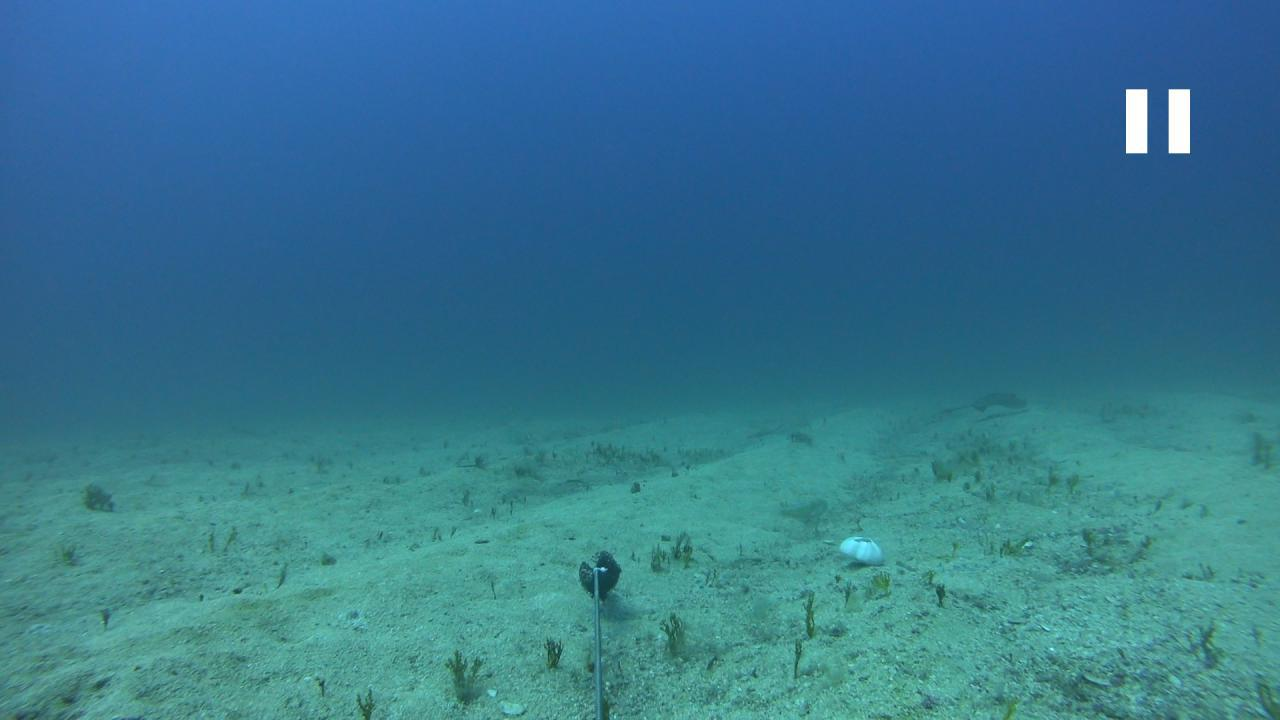dasyatis: (942, 388, 1026, 415)
